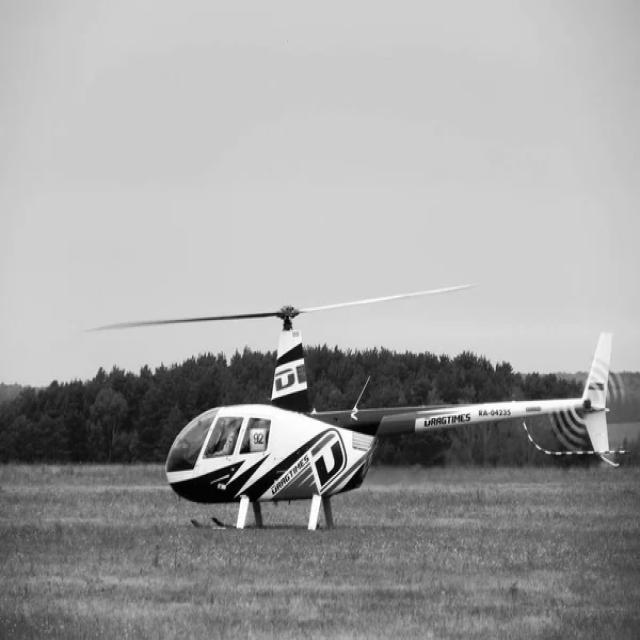Helicopter: (109, 291, 614, 531)
